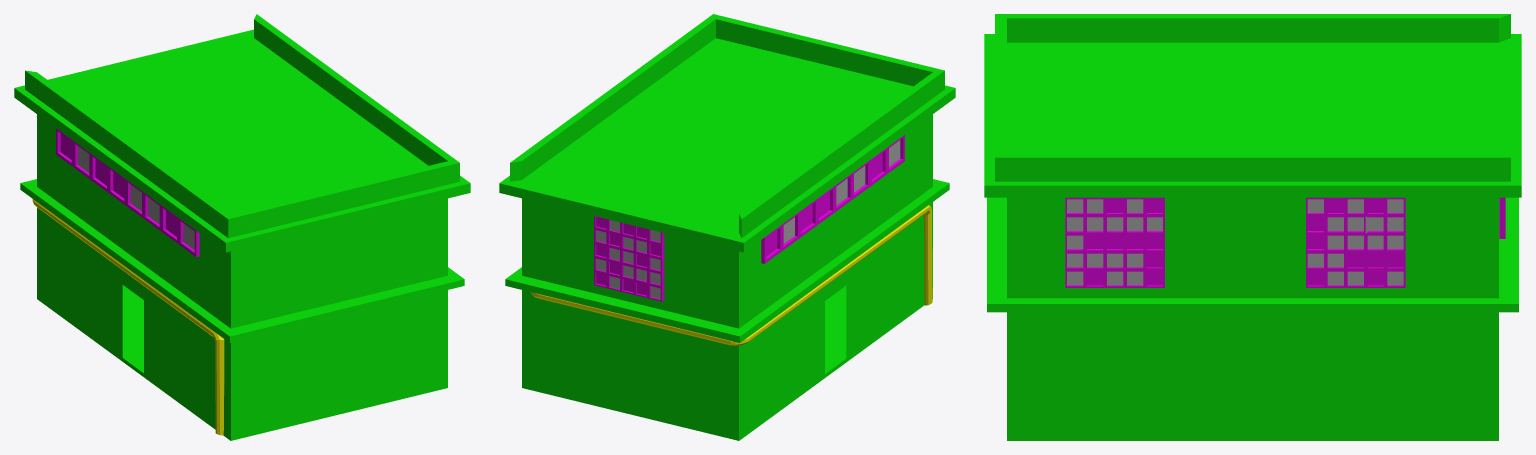
File: house2.fbx
3 renders of one model, left to right at view 1: azimuth 30°, elevation 25°; view 2: azimuth 150°, elevation 25°; view 3: azimuth 270°, elevation 25°, orthographic. The views are drawn at different scales.
Parts seen in each view (by area): view 1: polySurface3; view 2: polySurface3; view 3: polySurface3.
Part boxes in pixels (box(x1,y1,x2,y2)): polySurface3: box(14, 14, 470, 440); polySurface3: box(499, 14, 955, 440); polySurface3: box(984, 14, 1521, 440).
Bounding box in the file's own units: 58.38 × 51.73 × 87.5.
